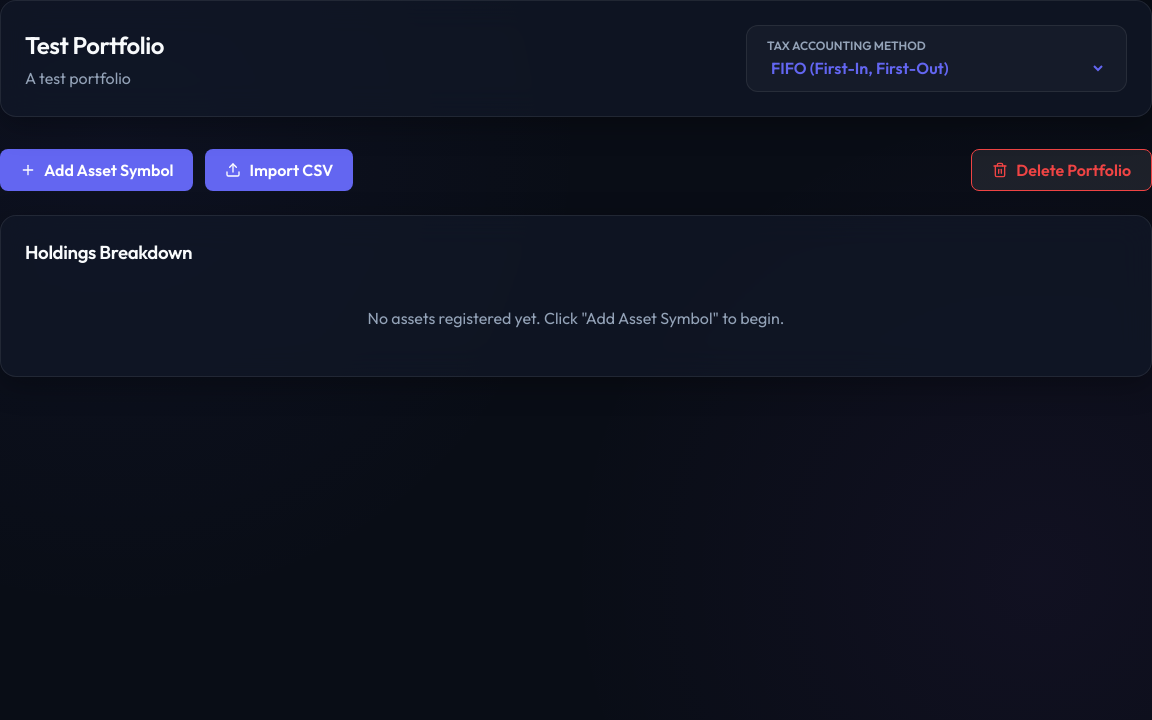
PortfolioDetail › opens asset modal when "Add Asset Symbol" is clicked
Click the button "Add Asset Symbol".
click(97, 170)  # box x1=0 y1=149 x2=193 y2=191
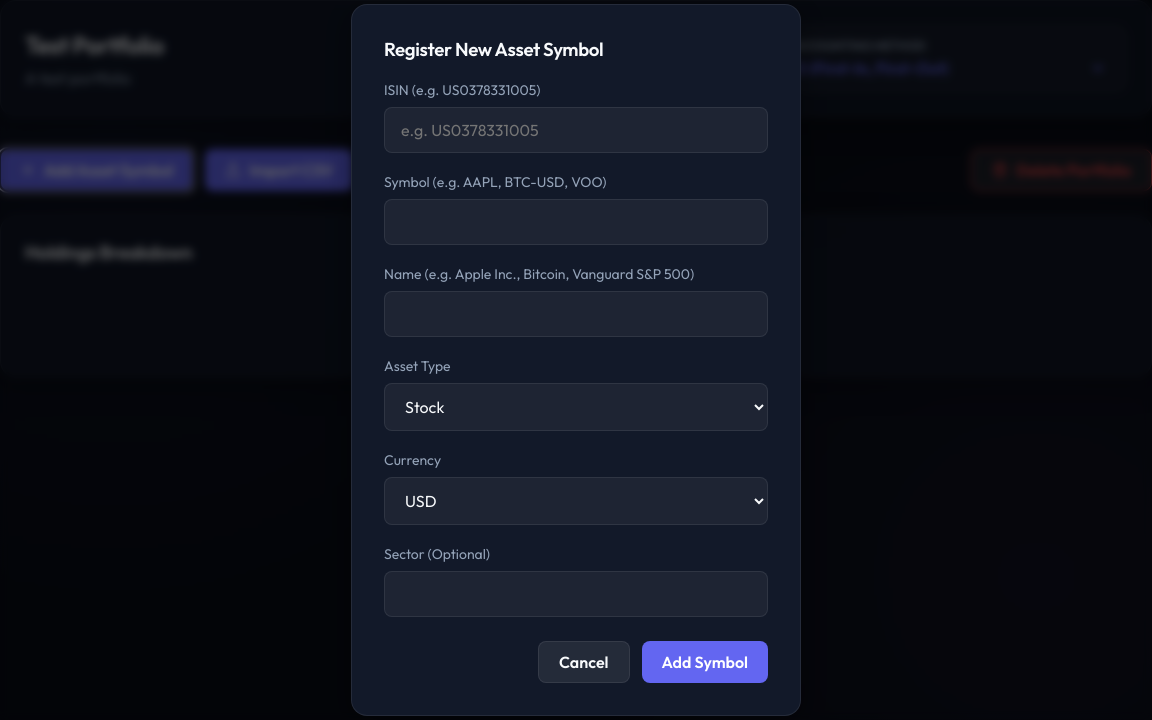
Check: the heading "Register New Asset Symbol" is shown, box x1=384 y1=37 x2=603 y2=61
